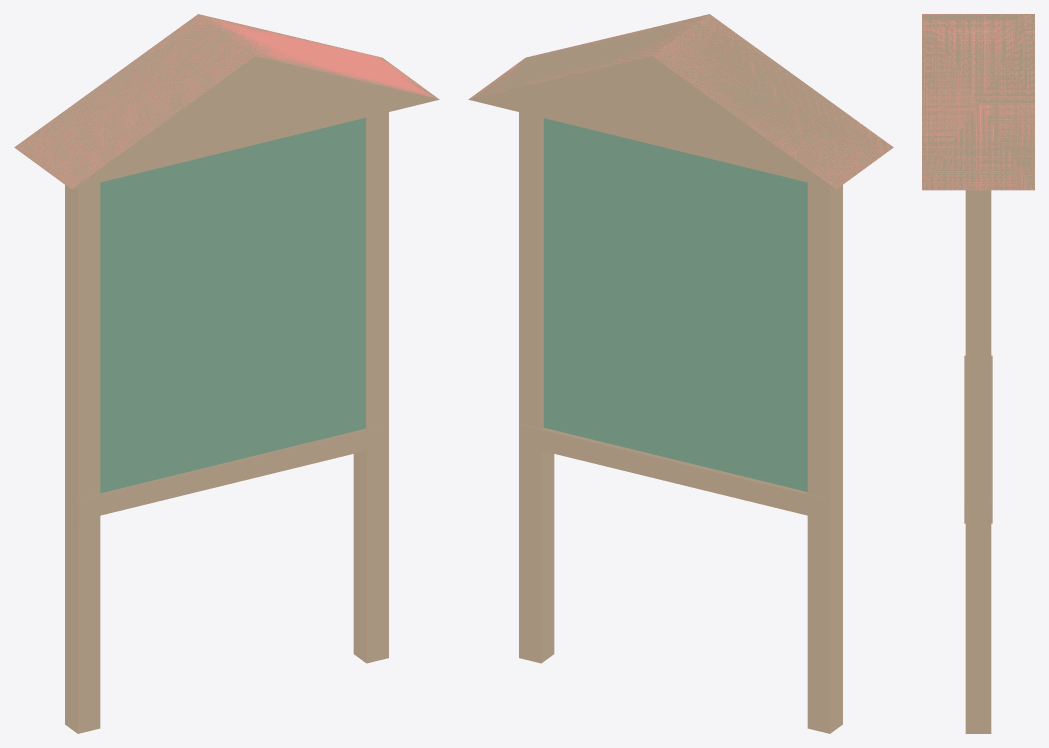
File: Blender_TeeSign_1.glb
The picture shows the model from 3 angles, left to right: view 1: azimuth 30°, elevation 25°; view 2: azimuth 150°, elevation 25°; view 3: azimuth 270°, elevation 25°; orthographic projection.
Visible parts, largest first — view 1: Blender_TeeSign_1; view 2: Blender_TeeSign_1; view 3: Blender_TeeSign_1.
Part boxes in pixels (box(x1,y1,x2,y2)): Blender_TeeSign_1: box(14, 14, 439, 733); Blender_TeeSign_1: box(468, 14, 893, 733); Blender_TeeSign_1: box(922, 14, 1034, 733).
Size of the model in its own units: 1.48 by 2.52 by 0.4.
